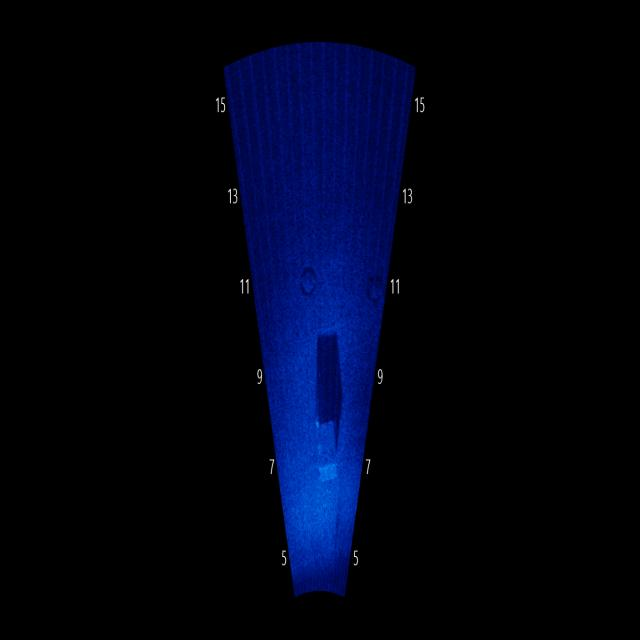square: (305, 400, 348, 497)
